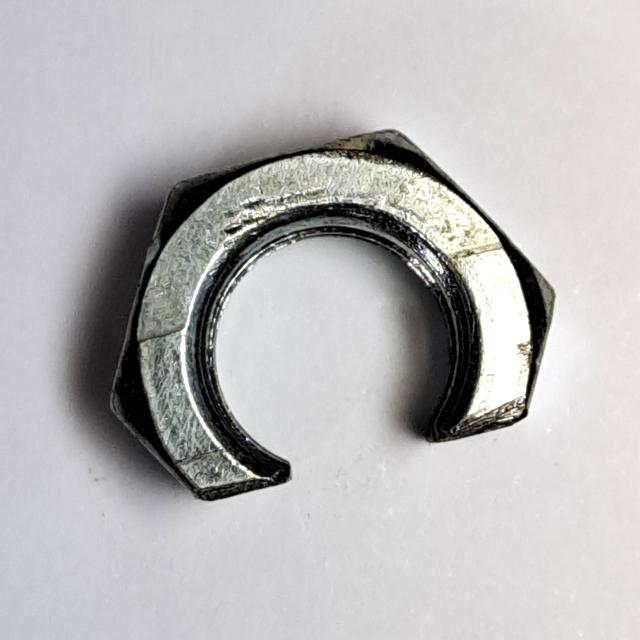Fracture: (92, 119, 566, 514)
